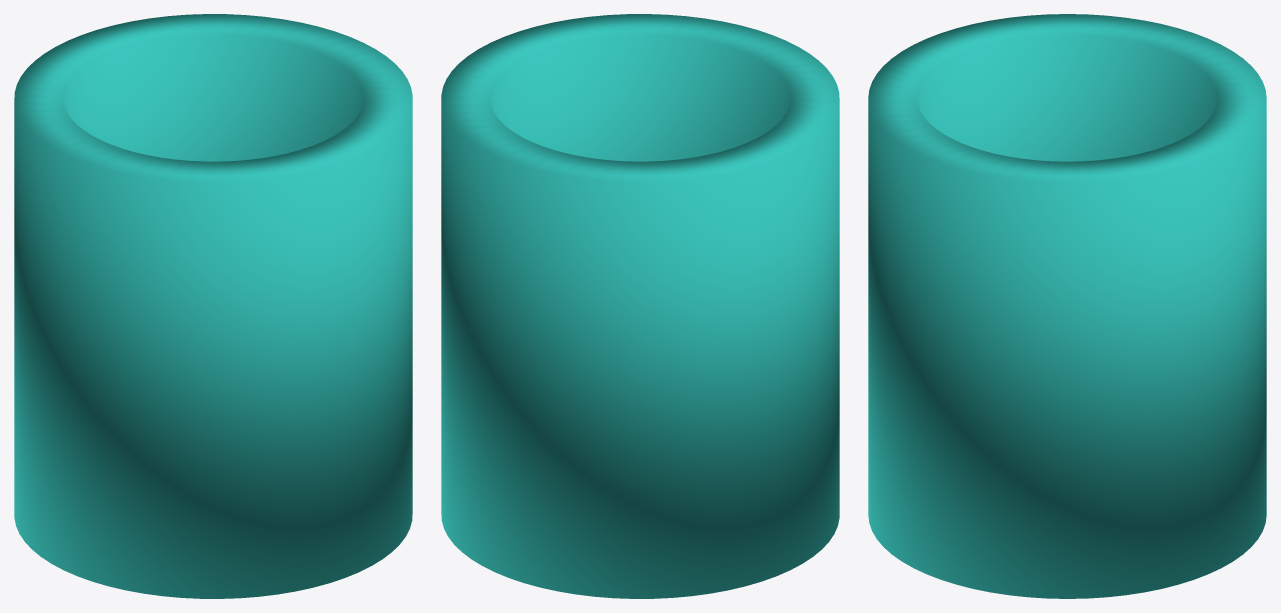
Rendered from hollow-tube-quality.glb.
The picture shows the model from 3 angles, left to right: view 1: azimuth 30°, elevation 25°; view 2: azimuth 150°, elevation 25°; view 3: azimuth 270°, elevation 25°; orthographic projection.
Parts seen in each view (by area): view 1: Hollow cylinder; view 2: Hollow cylinder; view 3: Hollow cylinder.
Part boxes in pixels (bbox=[...]): Hollow cylinder: bbox=[14, 14, 412, 598]; Hollow cylinder: bbox=[441, 14, 839, 598]; Hollow cylinder: bbox=[868, 14, 1266, 598].
Size of the model in its own units: 1.3 by 1.5 by 1.3.
